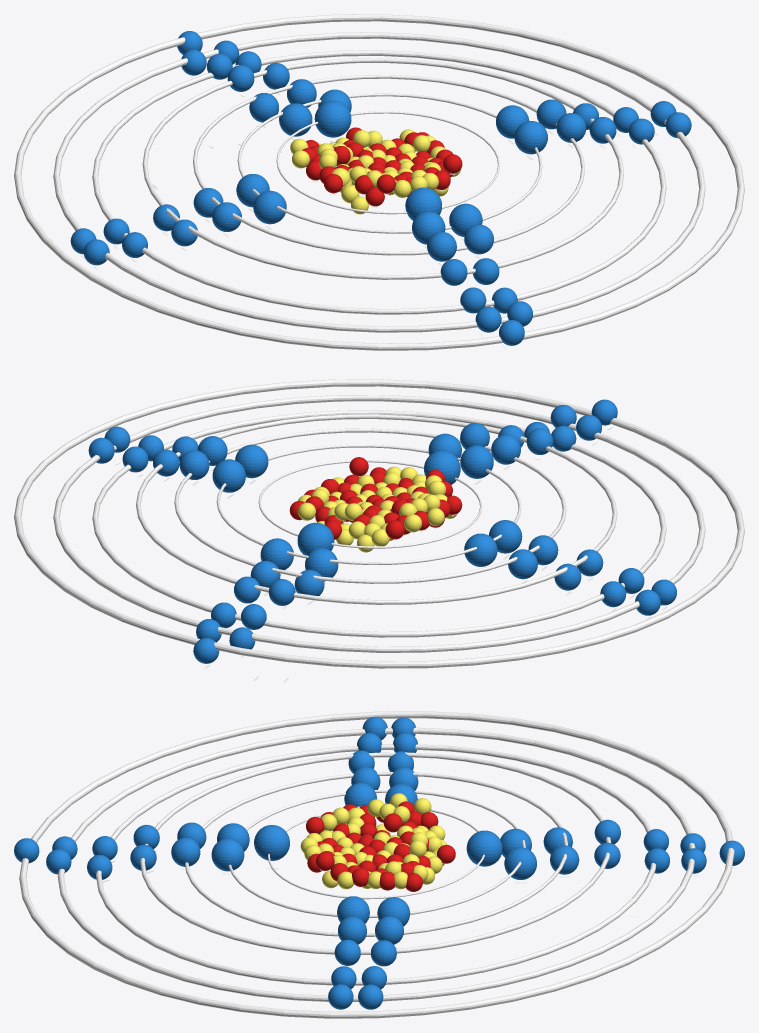
The picture shows the model from 3 angles, top to bottom: view 1: azimuth 30°, elevation 25°; view 2: azimuth 150°, elevation 25°; view 3: azimuth 270°, elevation 25°; orthographic projection. The views are drawn at different scales.
Parts seen in each view (by area): view 1: Torus.007, Torus.006, Torus.005, Torus.004, Torus.003, Torus.002, Torus.001, g, g.005, g.003, g.008, g.001 (+17 smaller); view 2: Torus.007, Torus.006, Torus.005, Torus.004, Torus.003, Torus.002, Torus.001, g, g.006, g.004, g.002, g.005 (+29 smaller); view 3: Torus.007, Torus.006, Torus.005, Torus.004, Torus.003, Torus.002, g, g.001, Torus.001, g.007, g.009, g.015 (+14 smaller).
Boxes of the visible parts, x1,y1,x2,y2 form: Torus.007: (14, 14, 744, 350); Torus.006: (53, 32, 705, 332); Torus.005: (92, 50, 666, 314); Torus.004: (142, 58, 623, 279); Torus.003: (193, 75, 584, 255); Torus.002: (237, 93, 542, 233); Torus.001: (276, 111, 499, 214); g: (314, 100, 351, 137); g.005: (514, 121, 547, 154); g.003: (253, 190, 286, 224); g.008: (279, 103, 312, 136); g.001: (405, 187, 441, 220); Torus.007: (14, 379, 744, 668); Torus.006: (53, 395, 705, 652); Torus.005: (92, 410, 666, 637); Torus.004: (136, 414, 617, 604); Torus.003: (174, 428, 566, 583); Torus.002: (216, 444, 521, 564); Torus.001: (258, 460, 482, 548); g: (297, 522, 334, 555); g.006: (460, 445, 493, 478); g.004: (212, 459, 245, 492); g.002: (464, 533, 497, 566); g.005: (235, 444, 268, 478); Torus.007: (19, 711, 734, 1018); Torus.006: (57, 727, 695, 1001); Torus.005: (96, 744, 656, 985); Torus.004: (140, 752, 611, 954); Torus.003: (185, 772, 567, 936); Torus.002: (228, 789, 525, 917); g: (466, 830, 502, 866); g.001: (254, 825, 289, 860); Torus.001: (267, 806, 484, 899); g.007: (211, 838, 244, 871); g.009: (504, 847, 536, 879); g.015: (171, 837, 200, 866).
Bounding box in the file's own units: 19.64 × 2.92 × 20.05.
